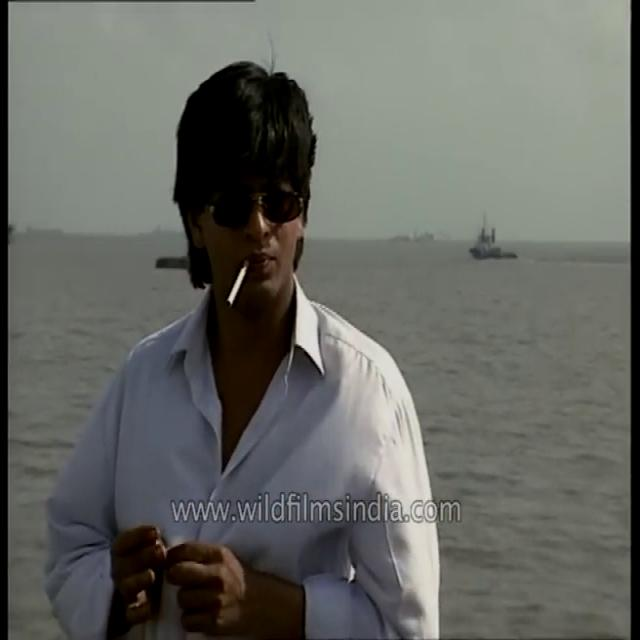Smooking: (218, 258, 254, 315)
